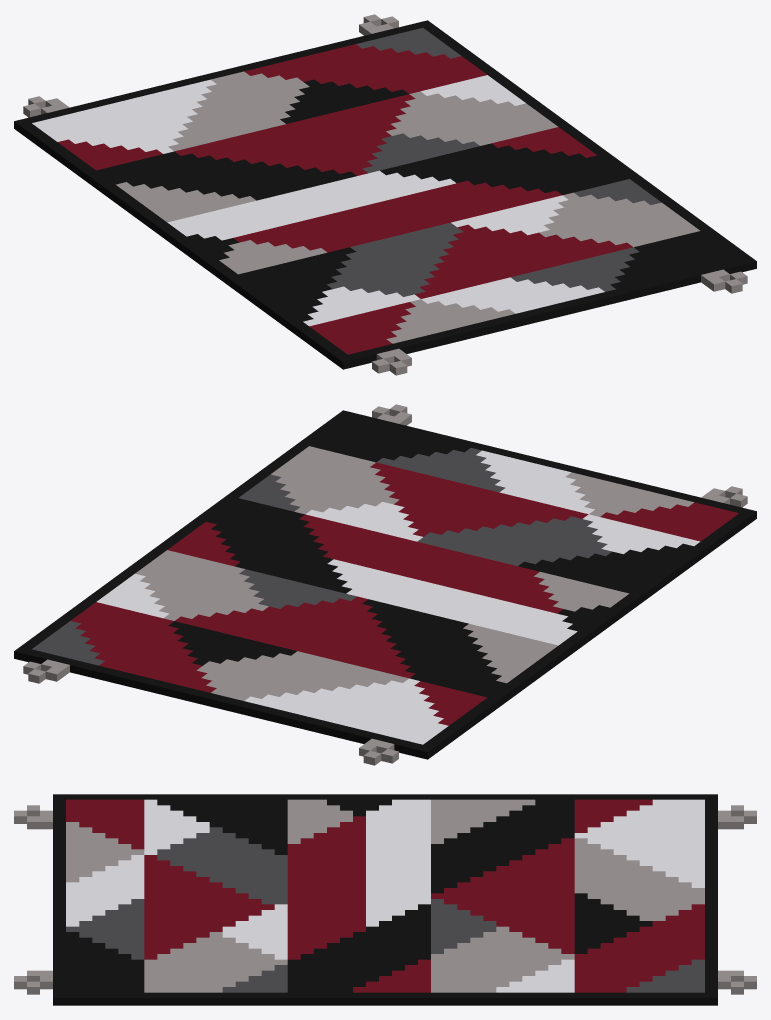
File: PixelRug_Angles_First-Edition_2021.glb
3 views of the same model, one above another, from view 1: azimuth 30°, elevation 25°; view 2: azimuth 150°, elevation 25°; view 3: azimuth 270°, elevation 25° (orthographic).
Parts seen in each view (by area): view 1: Curve.214; view 2: Curve.214; view 3: Curve.214.
Part boxes in pixels (x1=…): Curve.214: x1=14, y1=14, x2=756, y2=375; Curve.214: x1=14, y1=404, x2=756, y2=765; Curve.214: x1=14, y1=794, x2=756, y2=1005.
Size of the model in its own units: 0.7129 by 0.0123 by 1.1.
